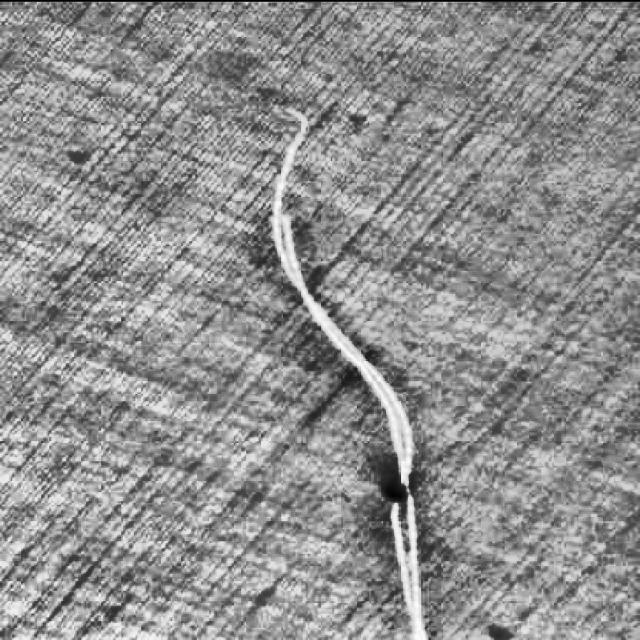objects: (251, 78, 457, 640)
